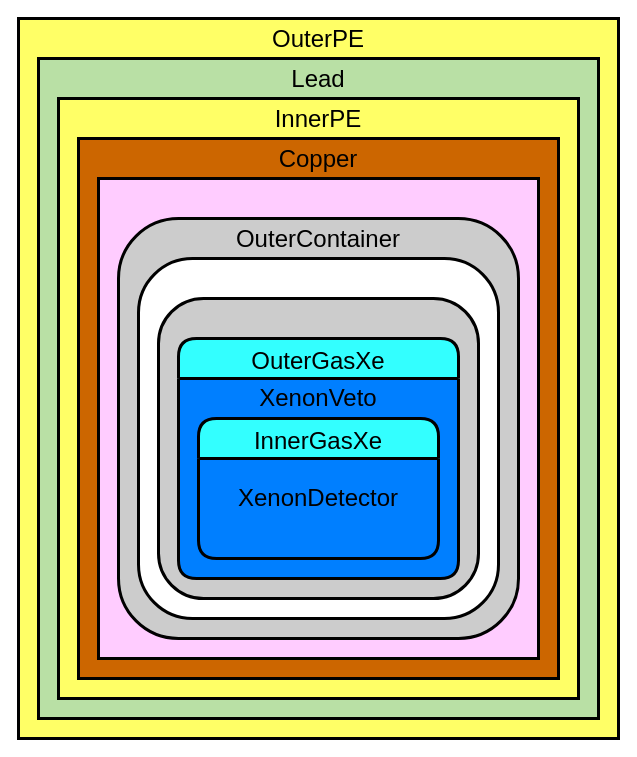
This 637x757 diagram has some shape labels left out. The shapes that lost their labels are listed below. From the top down, each one's box as (x1, y1, x2, y2) in pixels, then its label:
(96, 176, 540, 660): Air
(136, 256, 500, 620): Vacuum
(156, 296, 480, 600): InnerContainer
